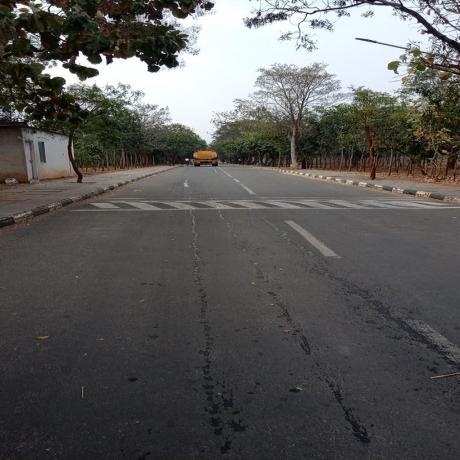Speed Bump: (58, 198, 458, 211)
